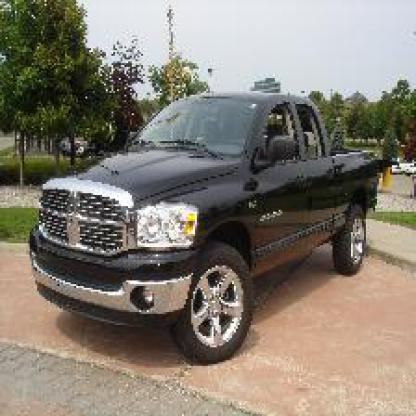not_emergency: (26, 82, 414, 375)
